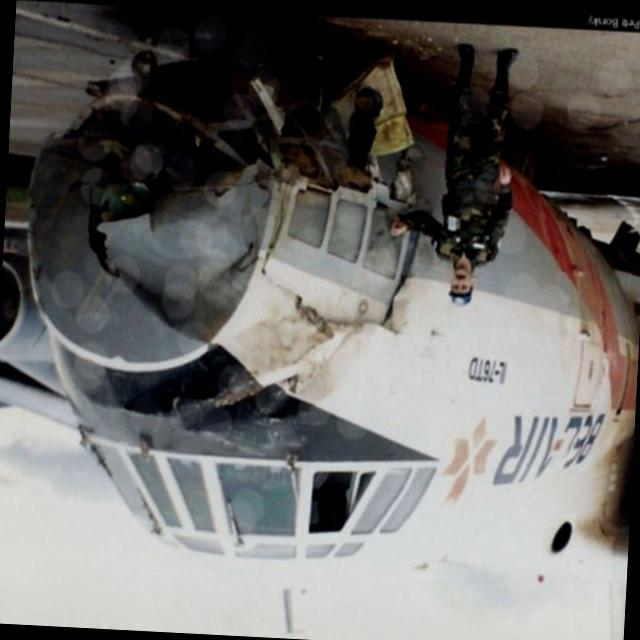dent: (132, 368, 298, 434)
